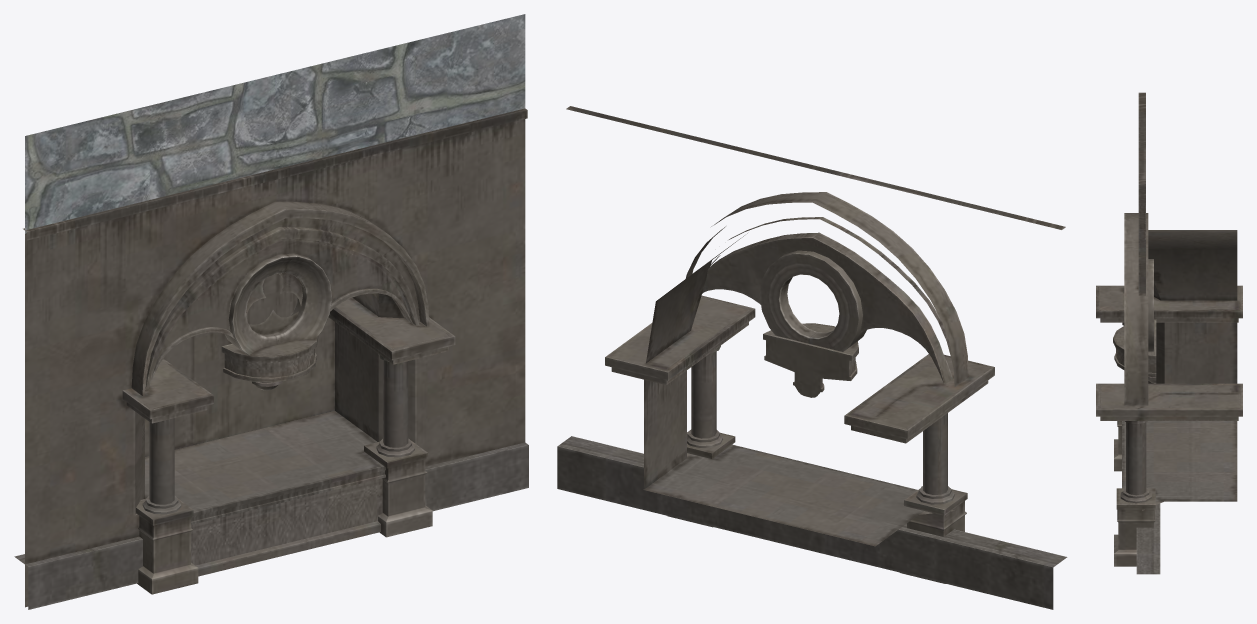
The model's file is SM_Crypt_Wall_Decorative_B.glb.
3 renders of one model, left to right at view 1: azimuth 30°, elevation 25°; view 2: azimuth 150°, elevation 25°; view 3: azimuth 270°, elevation 25°, orthographic. The views are drawn at different scales.
Parts seen in each view (by area): view 1: SM_Crypt_Wall_Decorative_B; view 2: SM_Crypt_Wall_Decorative_B; view 3: SM_Crypt_Wall_Decorative_B.
Boxes of the visible parts, <box> form: SM_Crypt_Wall_Decorative_B: <box>14,14,528,609</box>; SM_Crypt_Wall_Decorative_B: <box>557,106,1067,609</box>; SM_Crypt_Wall_Decorative_B: <box>1096,92,1242,574</box>.
Bounding box in the file's own units: 5 × 4.51 × 1.53.
3 materials, 3 textured.
